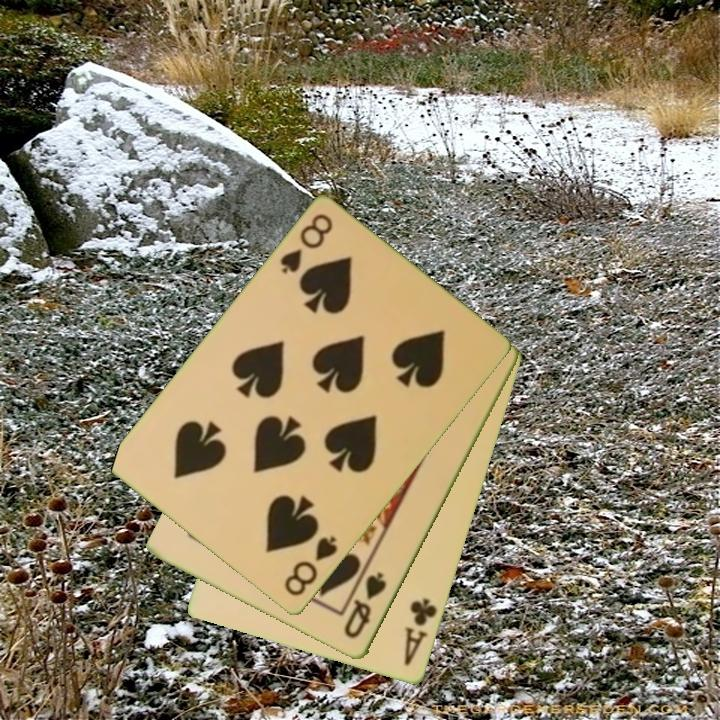8s: (280, 533, 341, 600), (276, 211, 336, 278)
Ac: (400, 595, 441, 669)
Qs: (340, 568, 390, 642)
